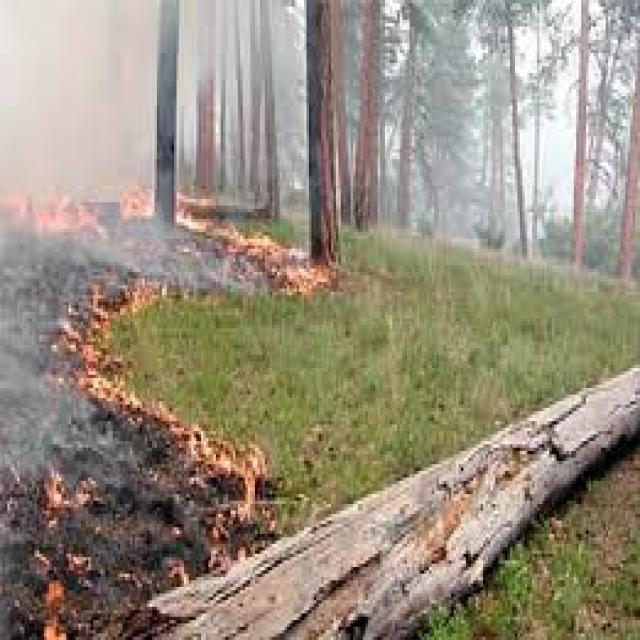Fire: (168, 208, 308, 300), (58, 283, 149, 423), (1, 159, 148, 244), (168, 430, 278, 535)
Smoke: (0, 0, 151, 486)
